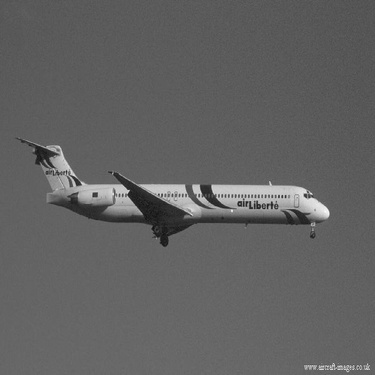airplane: (12, 126, 333, 243)
